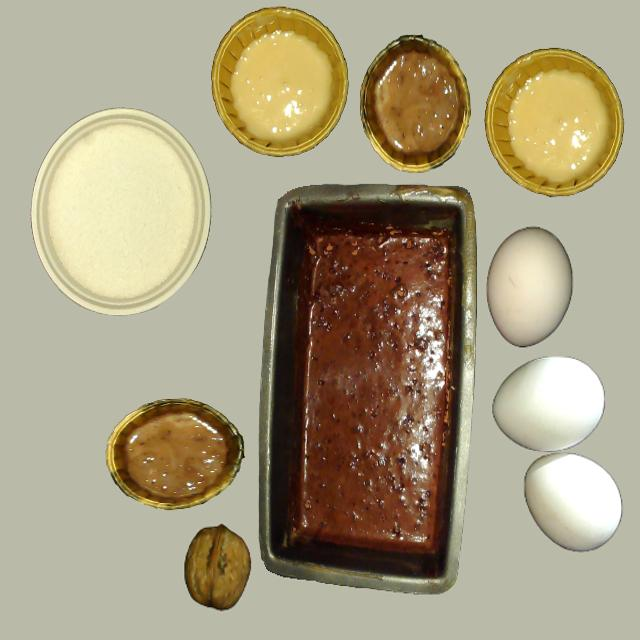Sugar: (46, 120, 194, 304)
Walnut: (183, 525, 250, 609)
